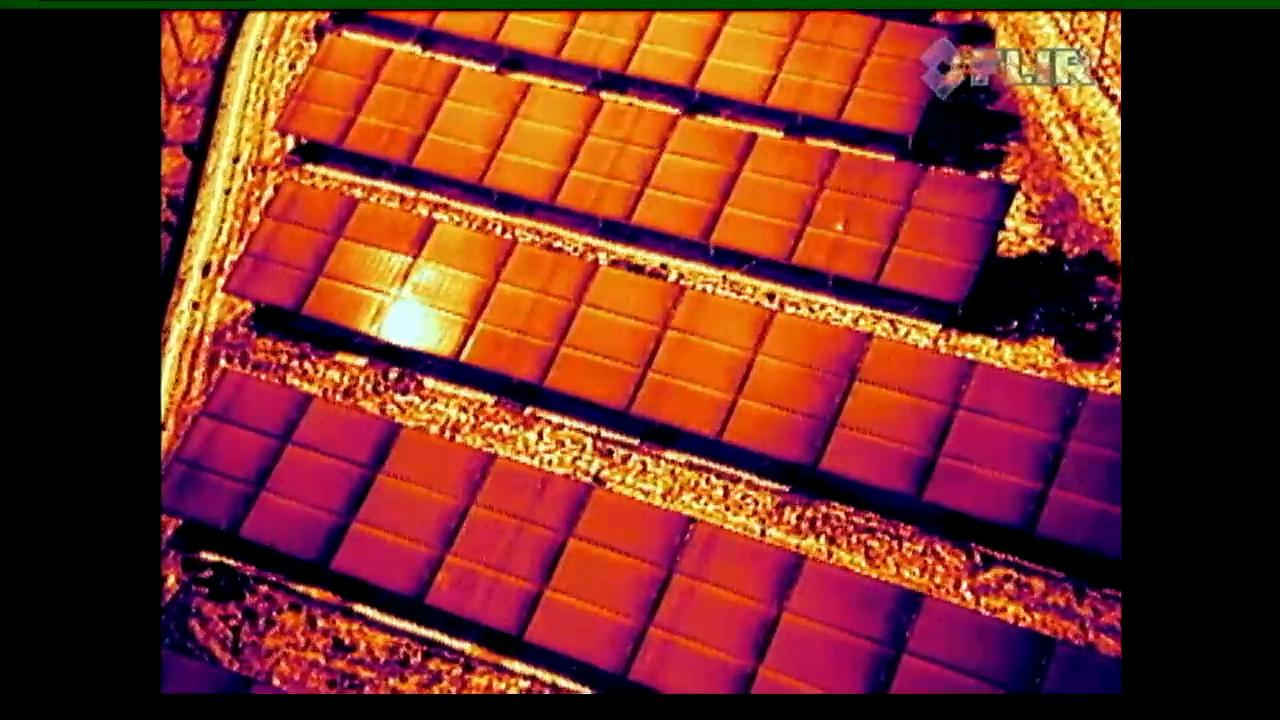hotspot: (784, 151, 927, 282)
